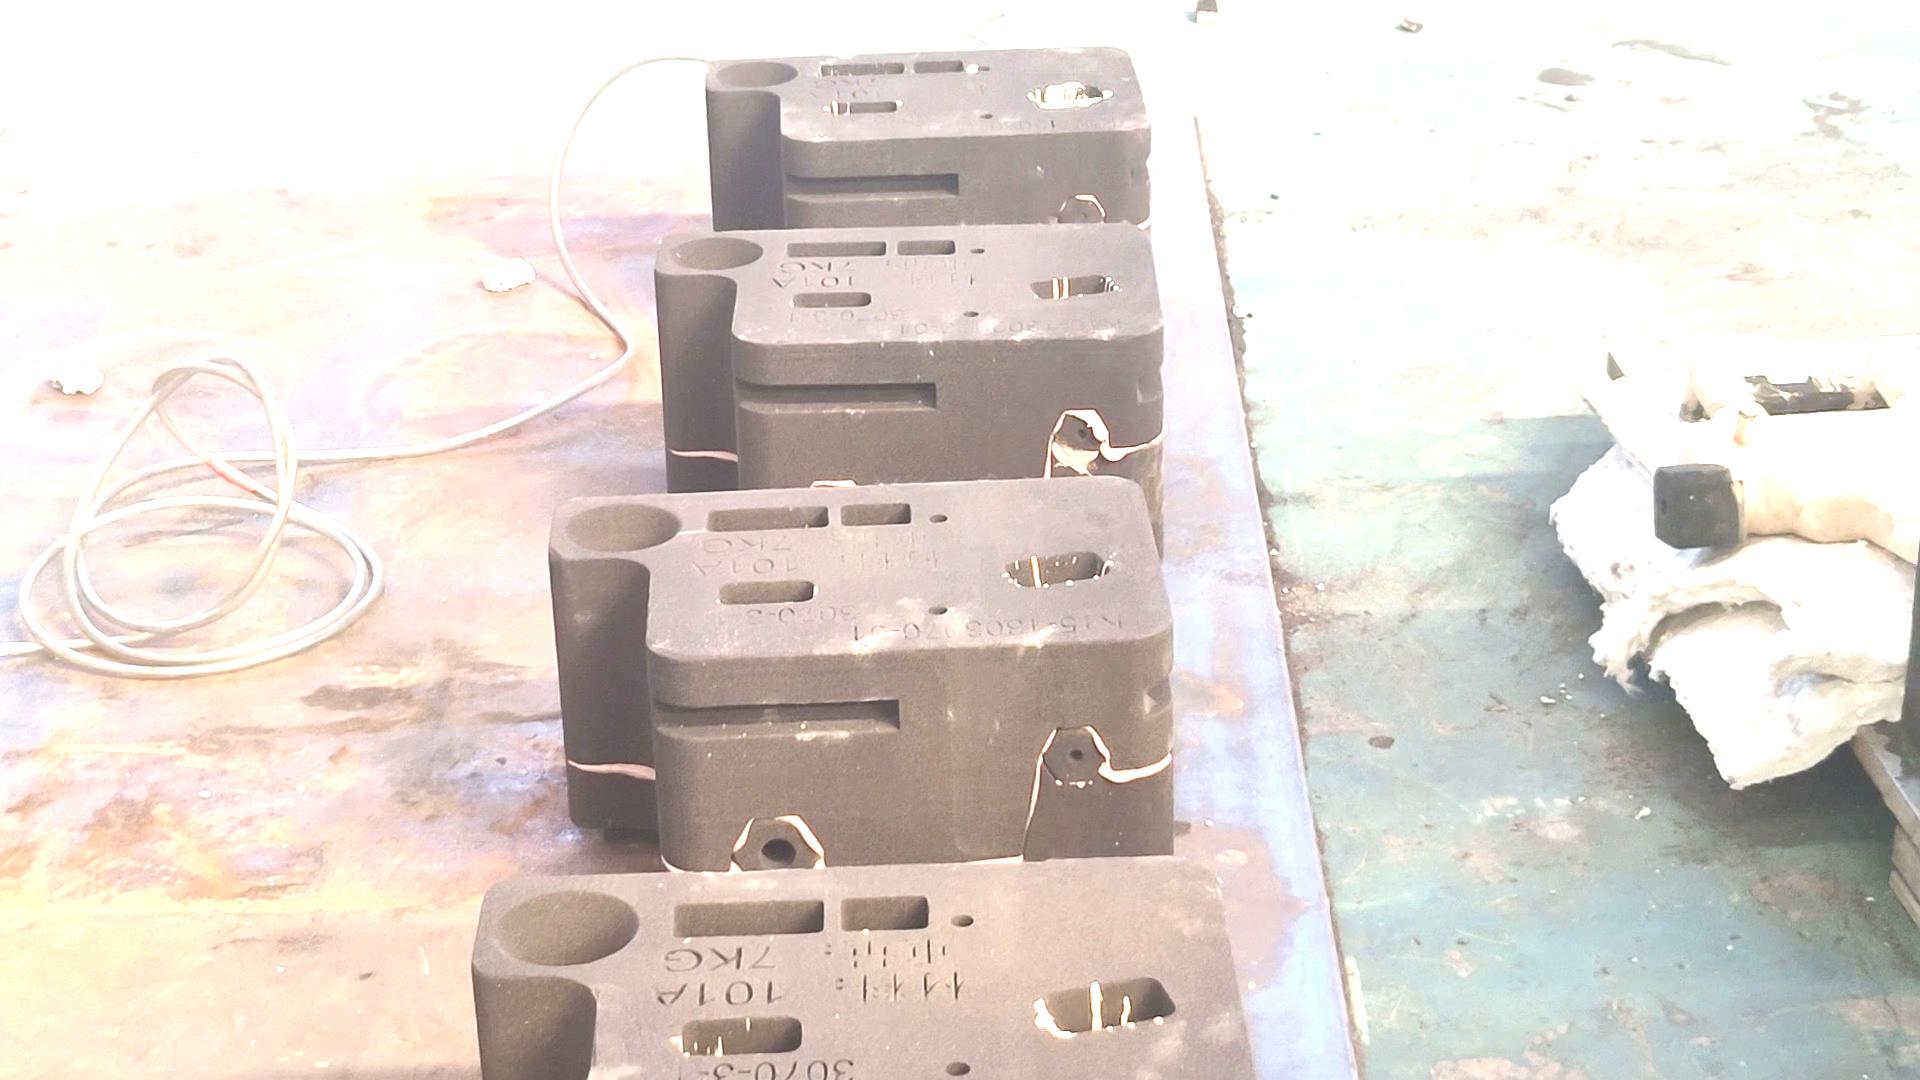pouring hole: (495, 890, 640, 965), (566, 504, 680, 555), (666, 235, 764, 270), (715, 61, 799, 87)
